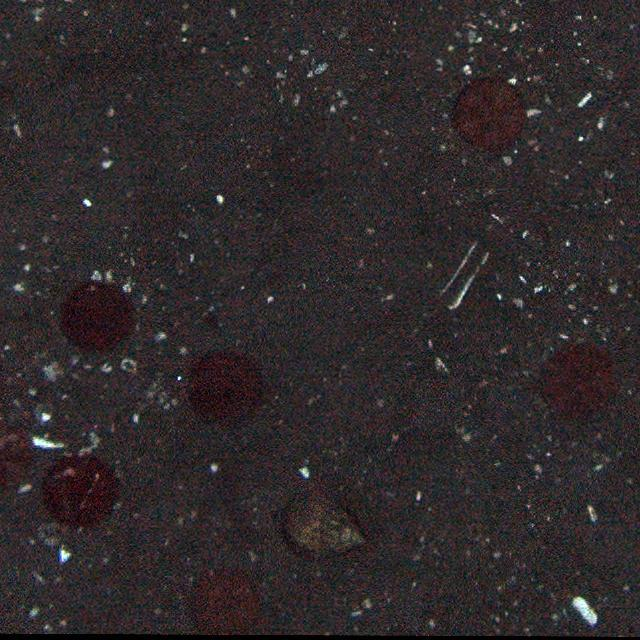whelk: (279, 493, 374, 563)
